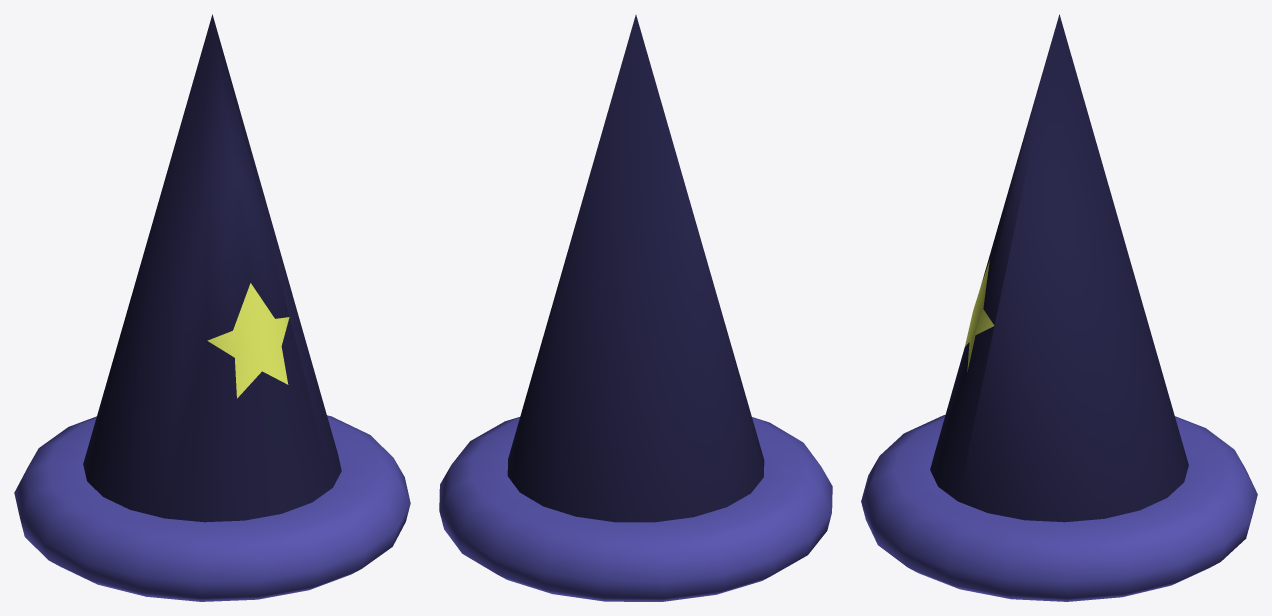
The model's file is WizardHat.fbx.
3 renders of one model, left to right at view 1: azimuth 30°, elevation 25°; view 2: azimuth 150°, elevation 25°; view 3: azimuth 270°, elevation 25°, orthographic.
Parts seen in each view (by area): view 1: WizardHat; view 2: WizardHat; view 3: WizardHat.
Part boxes in pixels (x1,y1,x2,y2): WizardHat: (14, 14, 410, 601); WizardHat: (439, 15, 832, 601); WizardHat: (861, 14, 1257, 601).
Size of the model in its own units: 4.08 by 5.8 by 4.08.
